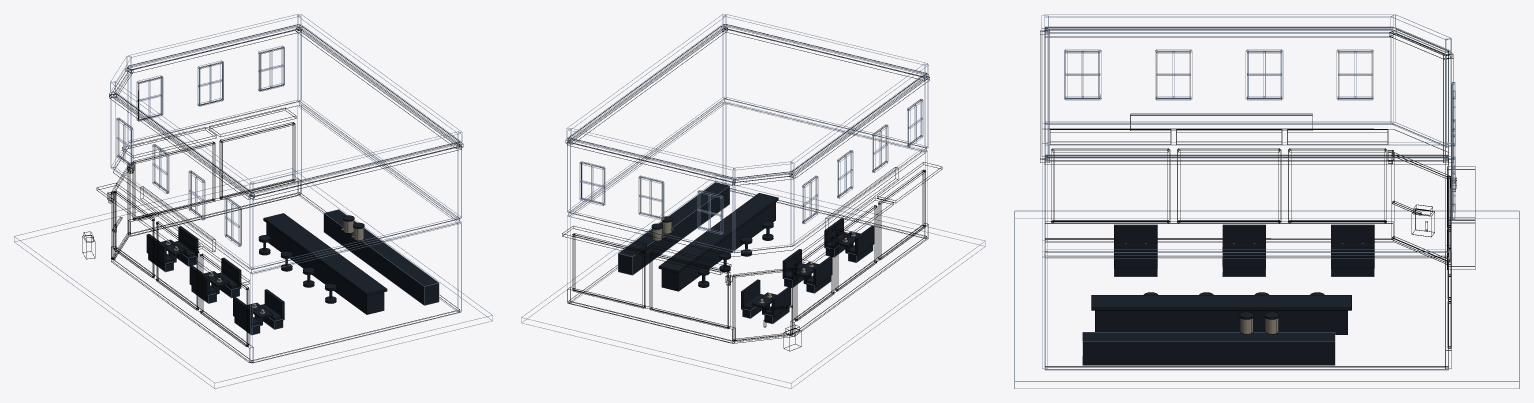
The model's file is 街角咖啡馆.fbx.
3 renders of one model, left to right at view 1: azimuth 30°, elevation 25°; view 2: azimuth 150°, elevation 25°; view 3: azimuth 270°, elevation 25°, orthographic. The views are drawn at different scales.
Parts seen in each view (by area): view 1: 描线_focus_街角咖啡馆, 描线_focus_街角咖啡馆_暗, 后柜, 吧台台面.001, 工作吧台; view 2: 描线_focus_街角咖啡馆, 描线_focus_街角咖啡馆_暗, 后柜, 吧台台面.001, 工作吧台; view 3: 描线_focus_街角咖啡馆, 描线_focus_街角咖啡馆_暗, 后柜, 工作吧台, 吧台台面.001, 卡座靠背.001, 卡座靠背.003, 卡座靠背.005, 卡座靠背, 卡座靠背.002, 卡座靠背.004.
Boxes of the visible parts, x1,y1,x2,y2 form: 描线_focus_街角咖啡馆: (82,24,463,362); 描线_focus_街角咖啡馆_暗: (14,14,492,388); 后柜: (324,209,438,305); 吧台台面.001: (263,213,386,295); 工作吧台: (266,223,383,314); 描线_focus_街角咖啡馆: (562,24,942,351); 描线_focus_街角咖啡馆_暗: (521,14,985,388); 后柜: (618,182,729,274); 吧台台面.001: (659,193,778,272); 工作吧台: (662,203,775,290); 描线_focus_街角咖啡馆: (1040,27,1475,369); 描线_focus_街角咖啡馆_暗: (1014,14,1519,388); 后柜: (1083,332,1334,365); 工作吧台: (1095,310,1347,334); 吧台台面.001: (1091,295,1351,309); 卡座靠背.001: (1331,244,1373,268); 卡座靠背.003: (1223,244,1265,268); 卡座靠背.005: (1114,244,1156,268); 卡座靠背: (1331,225,1373,243); 卡座靠背.002: (1223,225,1265,243); 卡座靠背.004: (1114,225,1156,243).
Bounding box in the file's own units: 1603 × 1018 × 2003.
